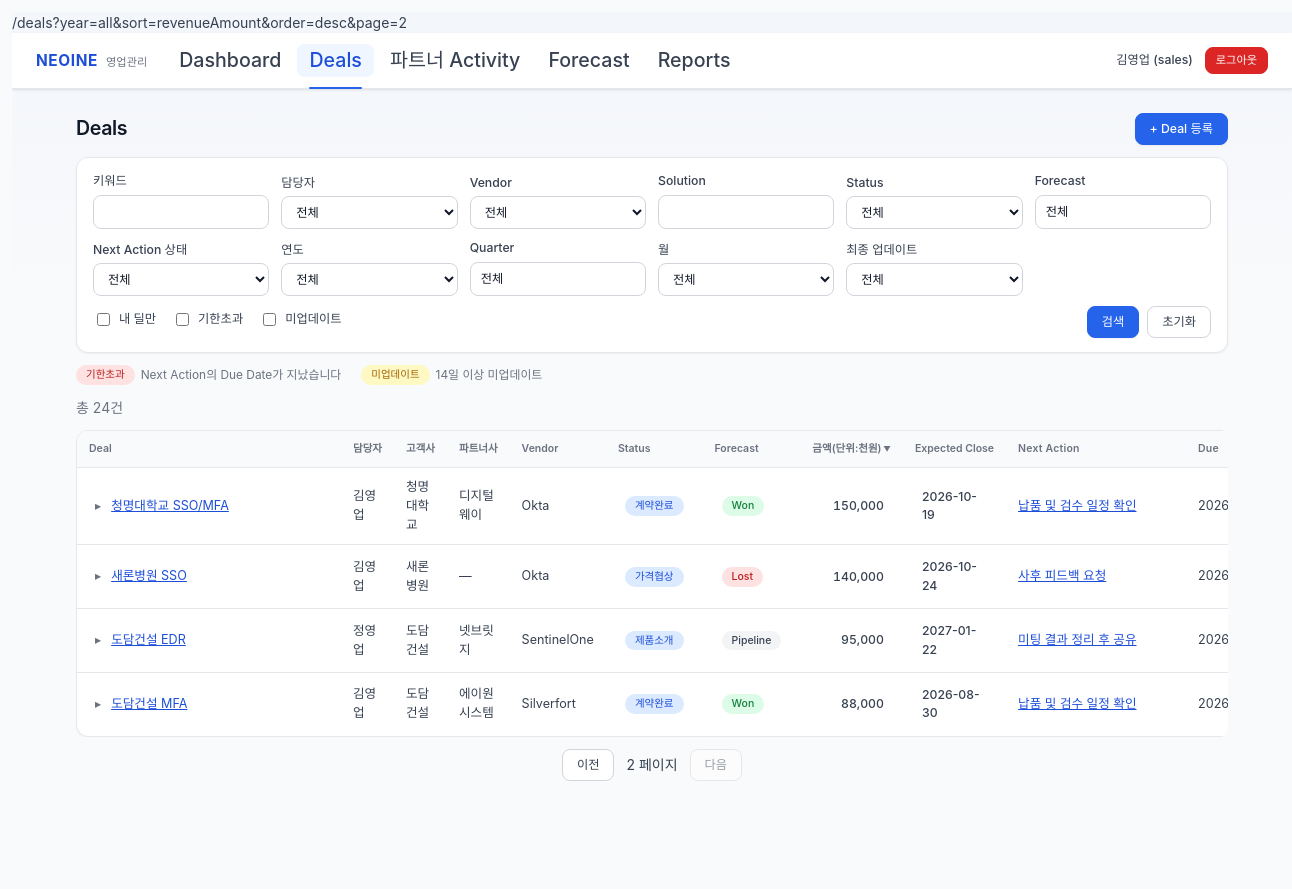
Test case: selecting several forecasts (AC-07·08) › goes back to page 1 when the selection changes
Check: the button "이전" is shown, box x1=562 y1=749 x2=614 y2=781
Check: the form named "Deal 필터" is shown, box x1=76 y1=157 x2=1228 y2=353
Click the button named "Forecast ".
click(1123, 212)  # box x1=1035 y1=195 x2=1211 y2=229
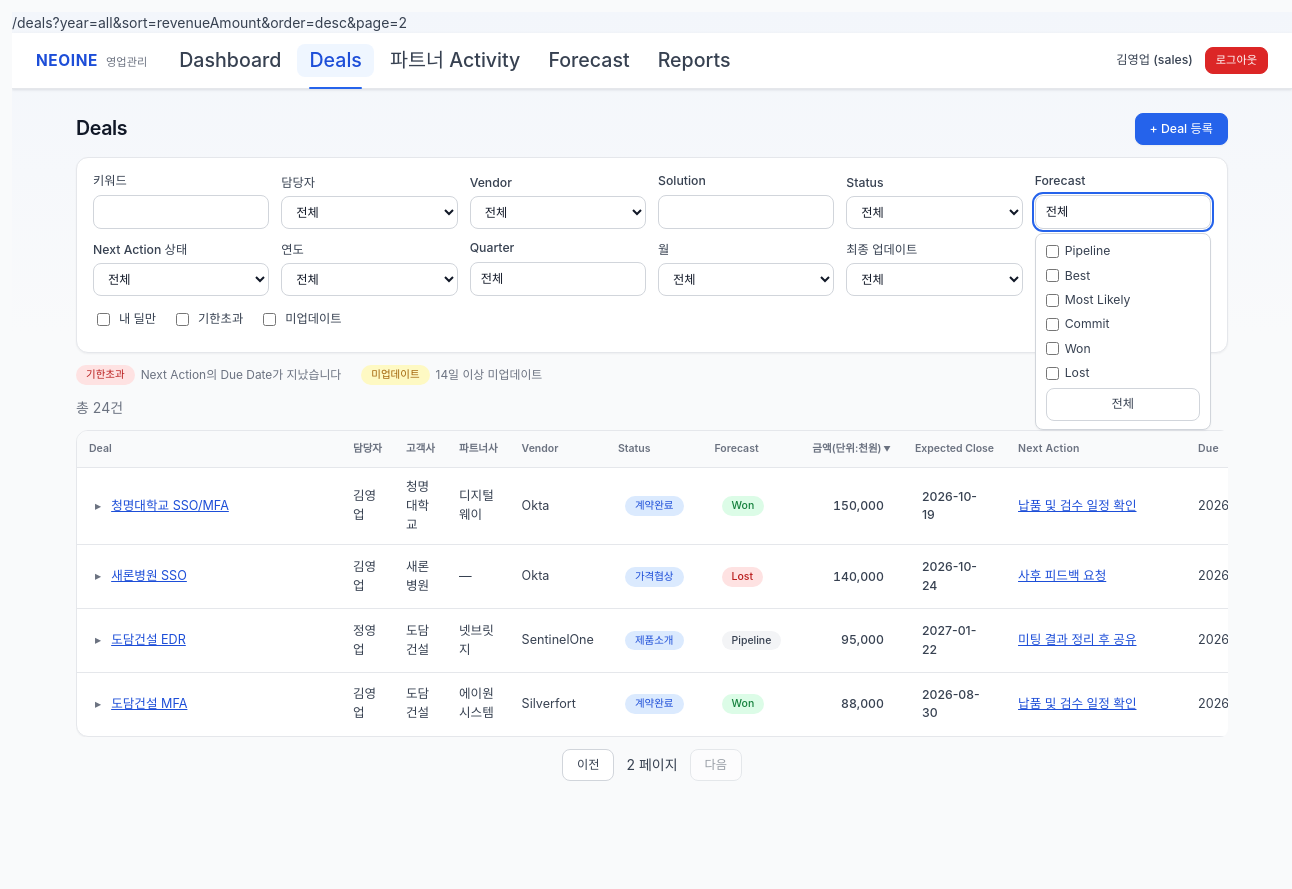
Click the checkbox labelled "Pipeline".
click(1052, 251)  # box x1=1046 y1=245 x2=1059 y2=258
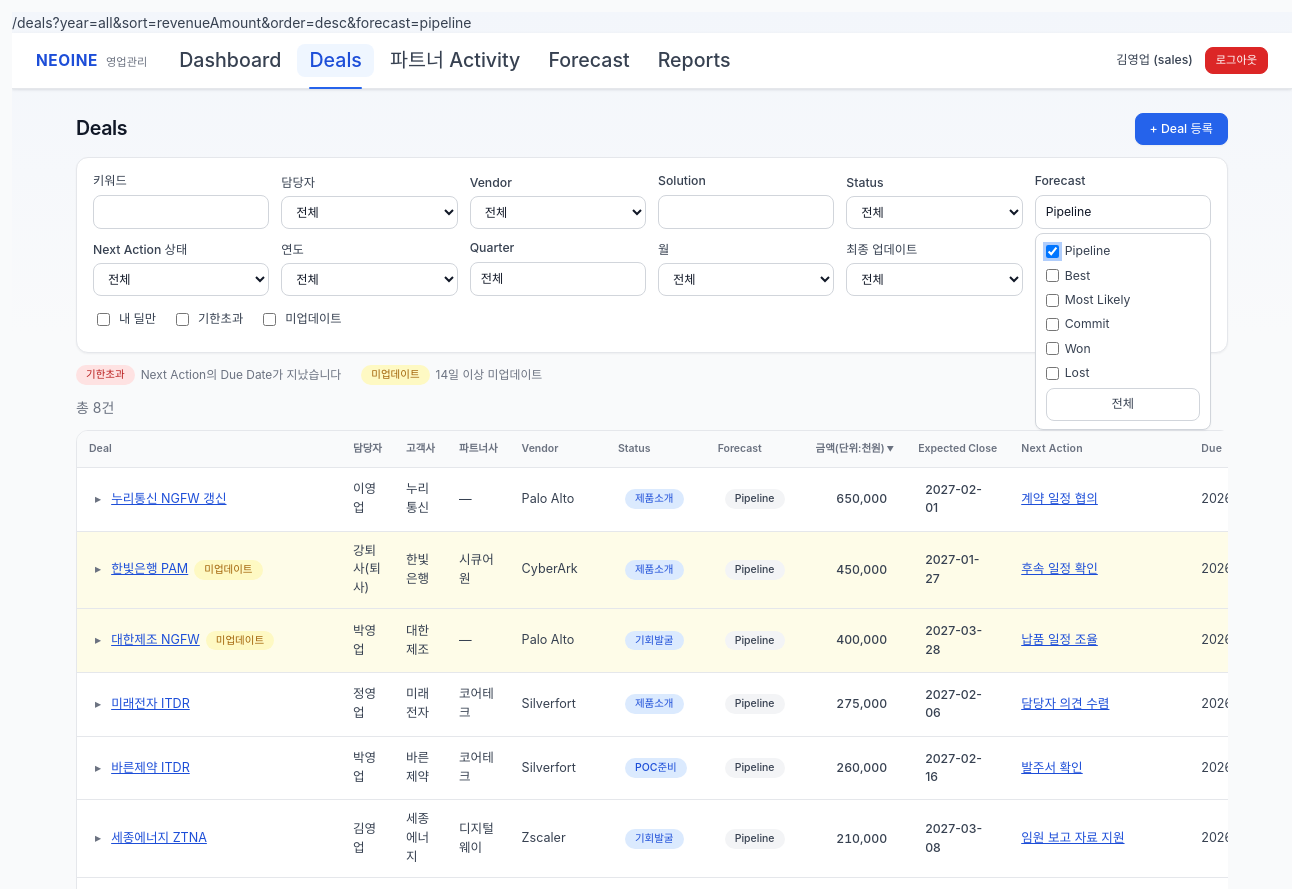
Check: the text with test id "location" reads "/deals?year=all&sort=revenueAmount&order=desc&forecast=pipeline", box x1=12 y1=14 x2=472 y2=31
